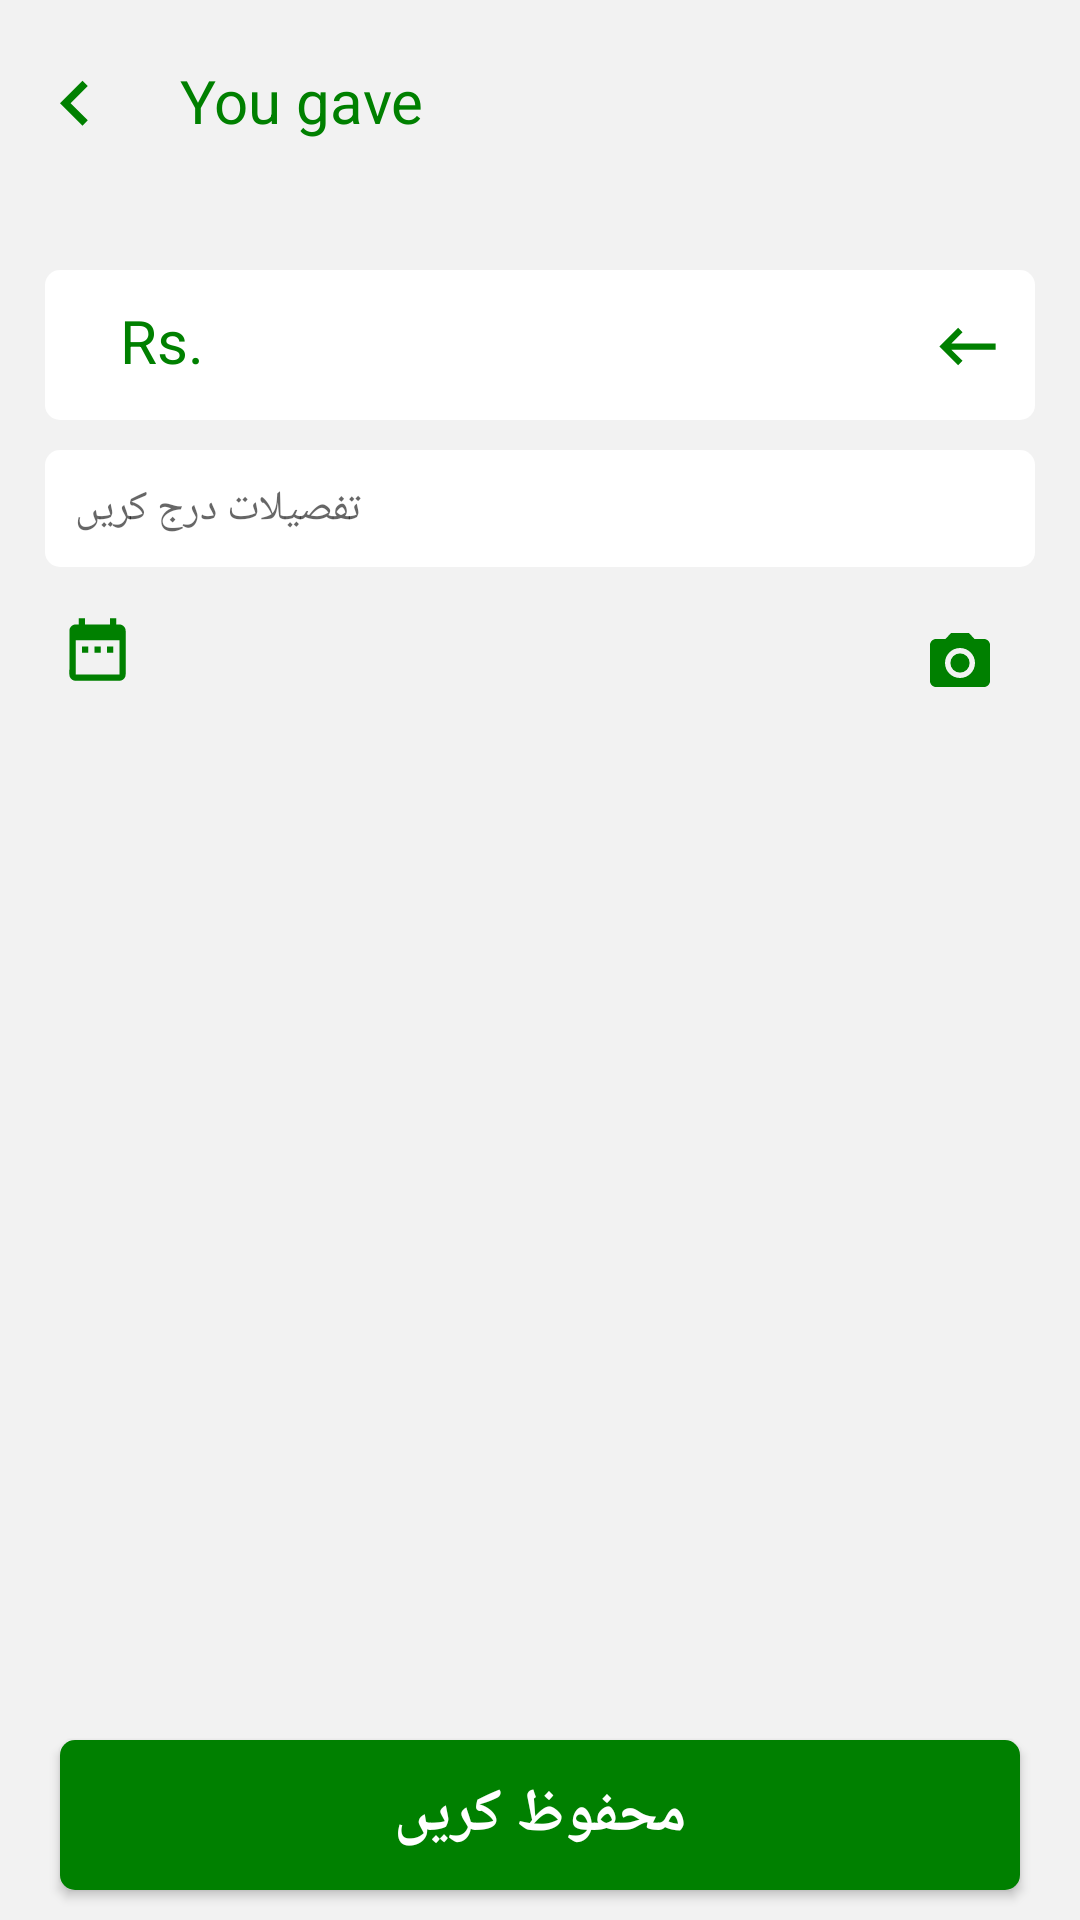

Icons on this 1080w x 1920h Android screen, each with its box as [x1,y1,x2,y2]:
backspace: [939,328,996,365]
date: [69,618,126,681]
